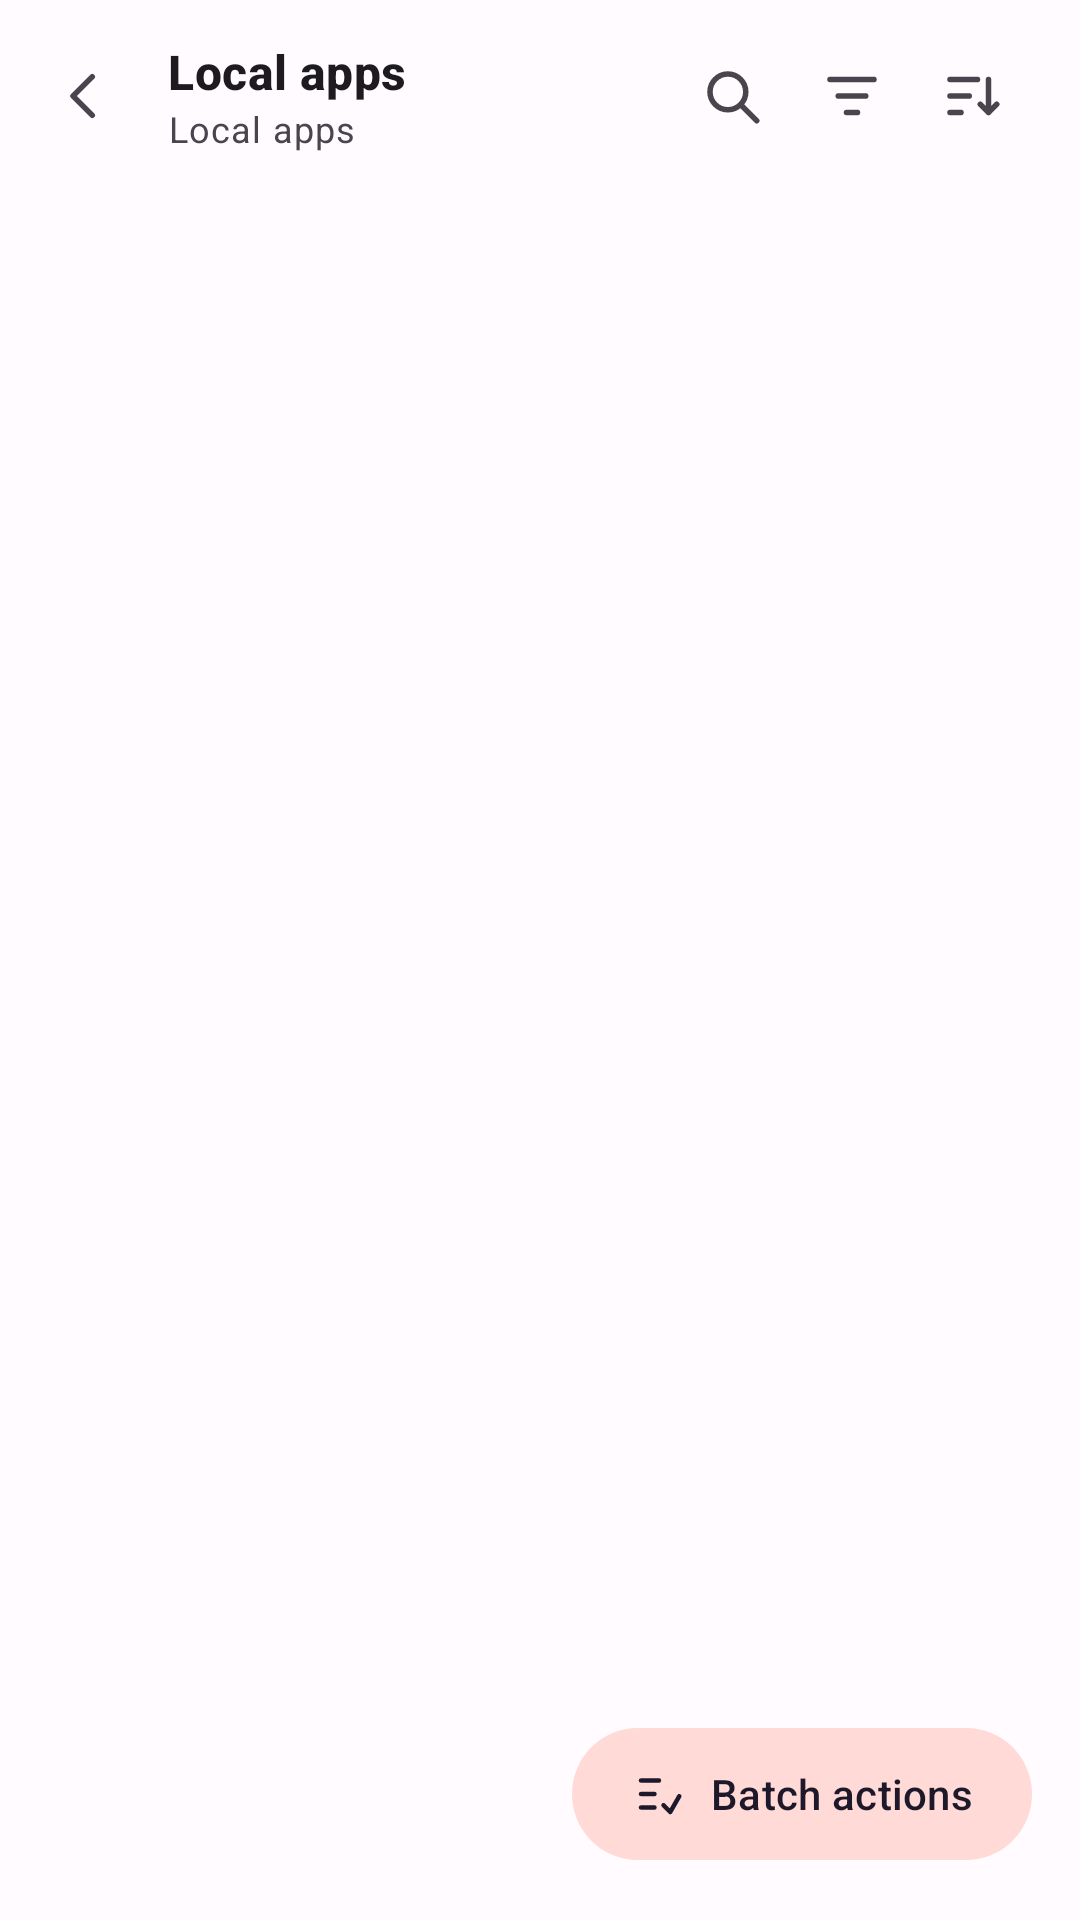

Icons on this 1080 × 1920 Android screen, each with its box as bbox(x1, y1, x2, y2):
filter: bbox(827, 76, 877, 116)
listsort: bbox(947, 76, 1000, 116)
search: bbox(707, 71, 760, 124)
